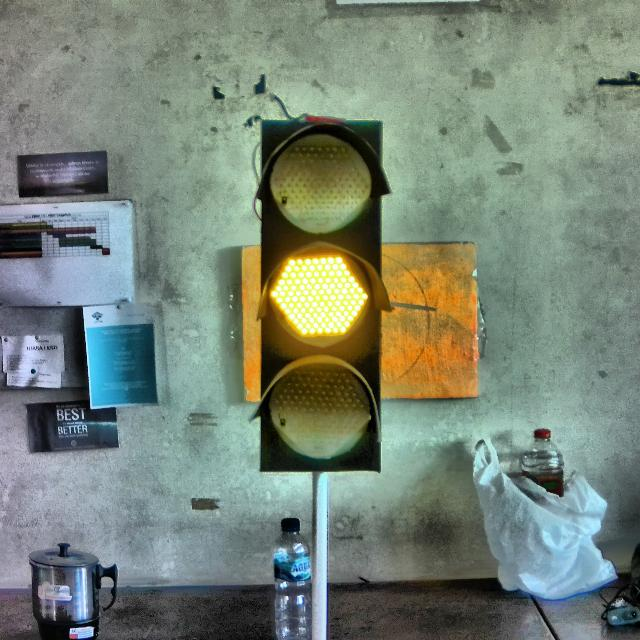yellow: (250, 114, 386, 468)
